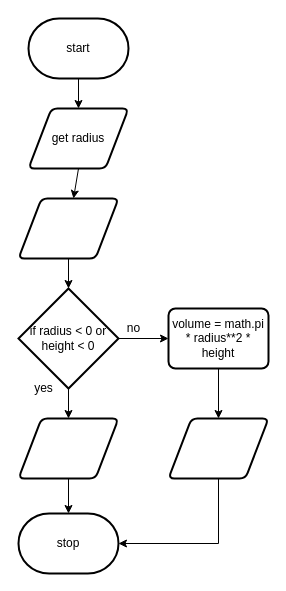
Some shapes in this 286 by 591 pixel diagram are drawn without their labels. The shapes that lost their labels are listed below. From the top down, each one's box as (x1, y1, x2, y2) in pixels, then its label:
(17, 197, 119, 259): get height
(17, 417, 119, 479): return -1
(167, 417, 269, 479): return volume
